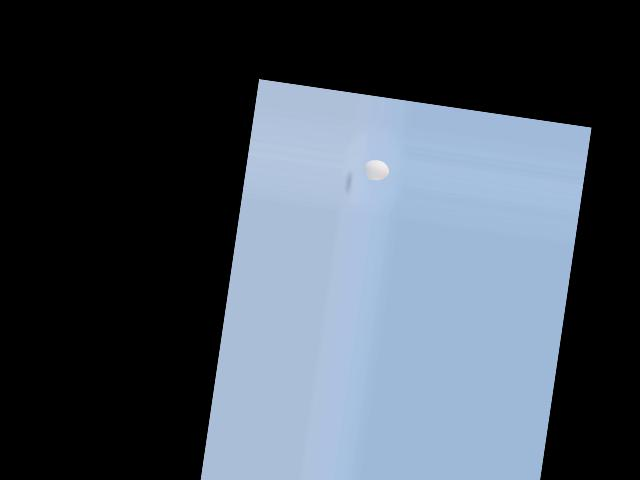egg: (362, 158, 390, 182)
